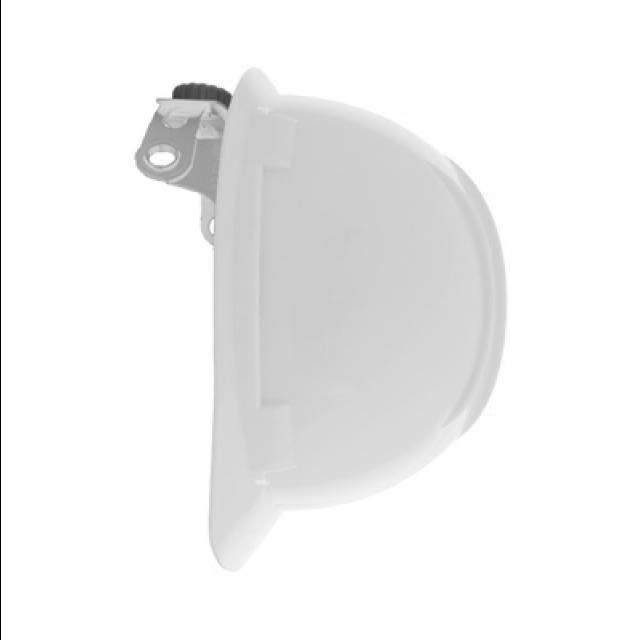safety_helmet: (130, 66, 506, 571)
